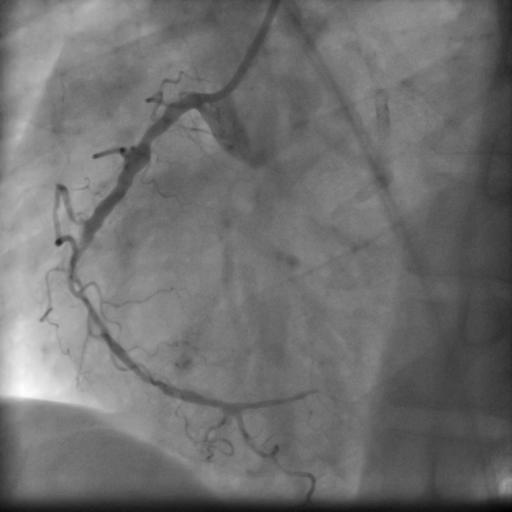Stenosis: (141, 119, 158, 149)
